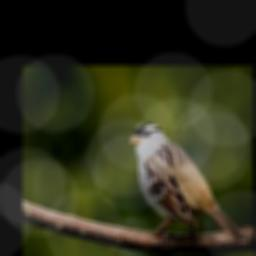Sparrow: (129, 121, 248, 247)
